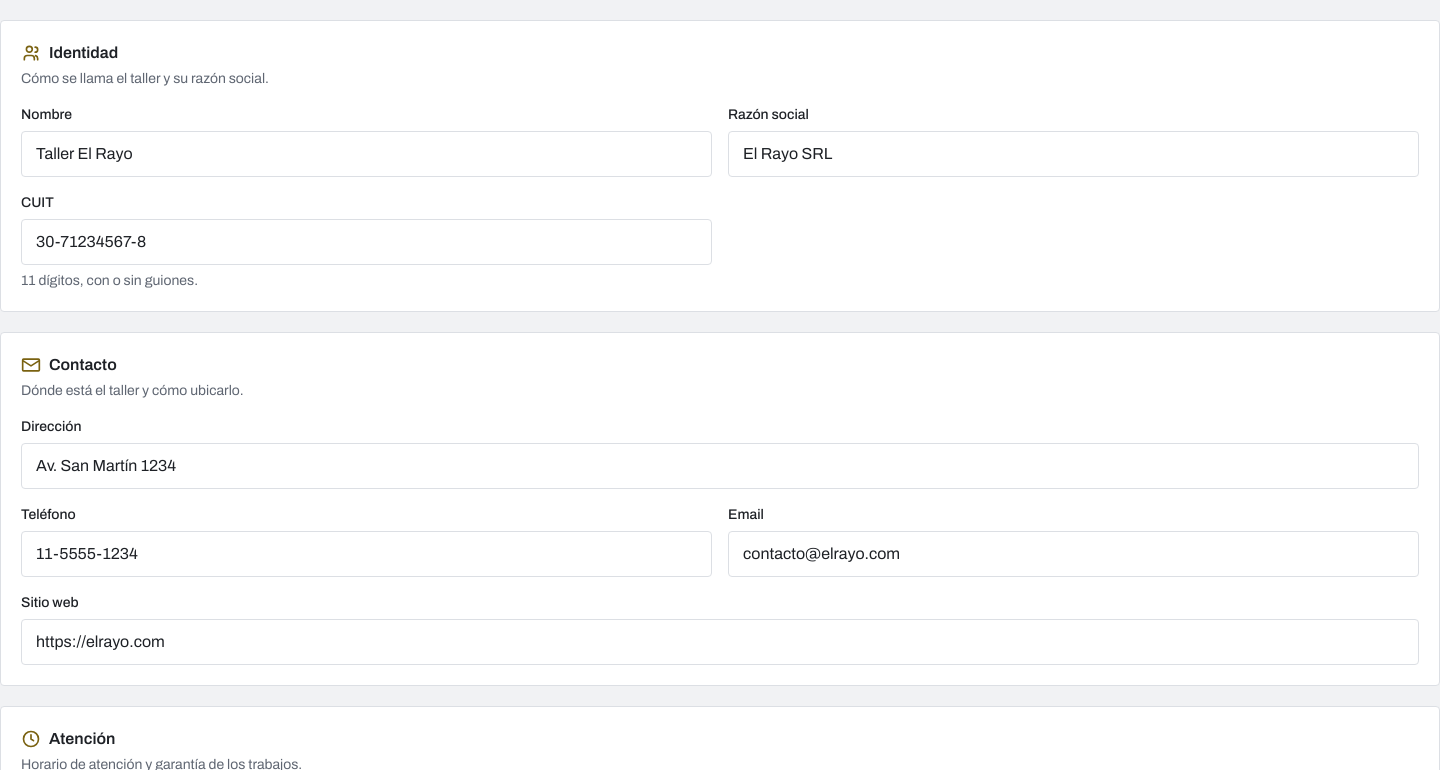
Test: ConfigTaller › muestra el error del servidor sin perder lo cargado
Replace the text in the field labelled "Nombre" with "Taller Norte" at [366, 154], box [21,131,712,177]
(page scrolled)
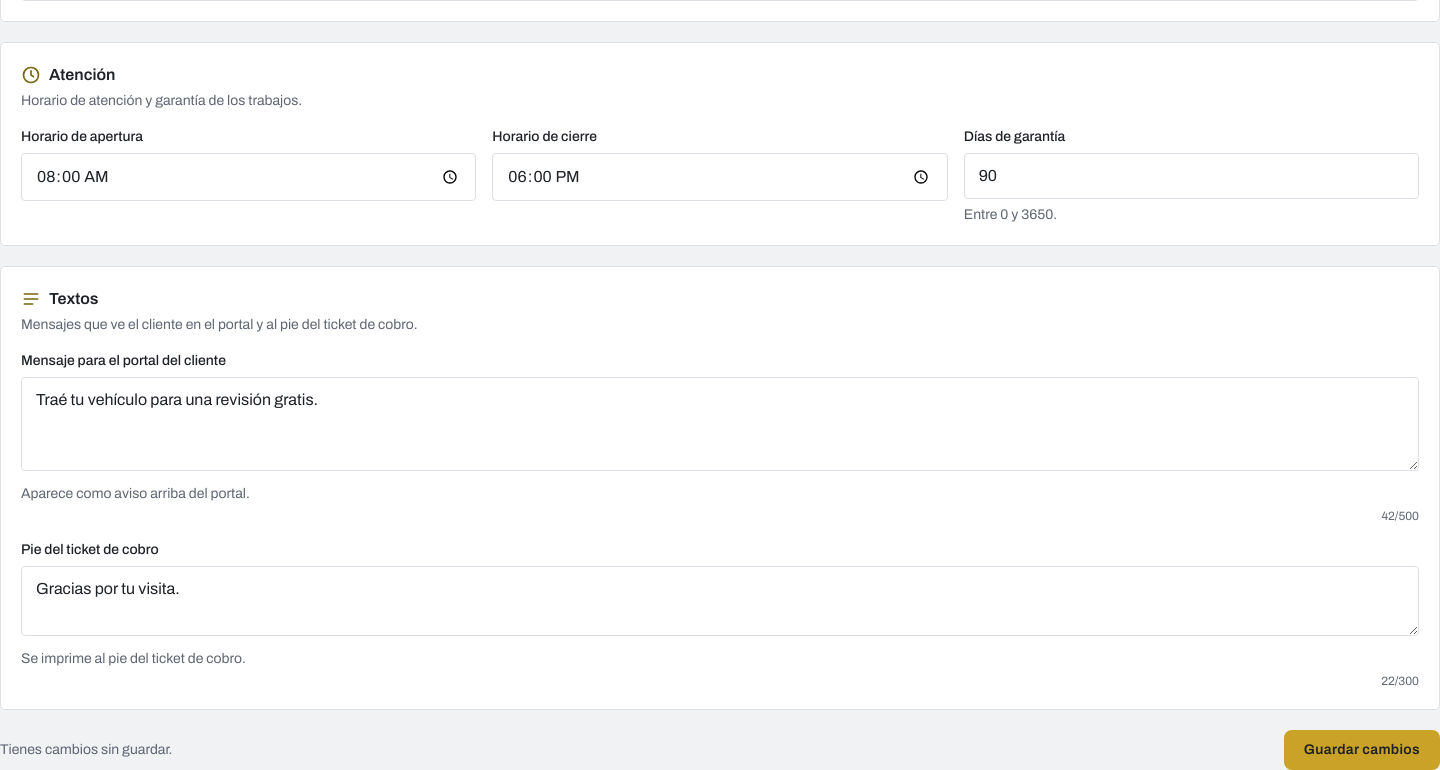
Click the button "Guardar cambios" at [1362, 750], box [1284,730,1439,769]
(page scrolled)
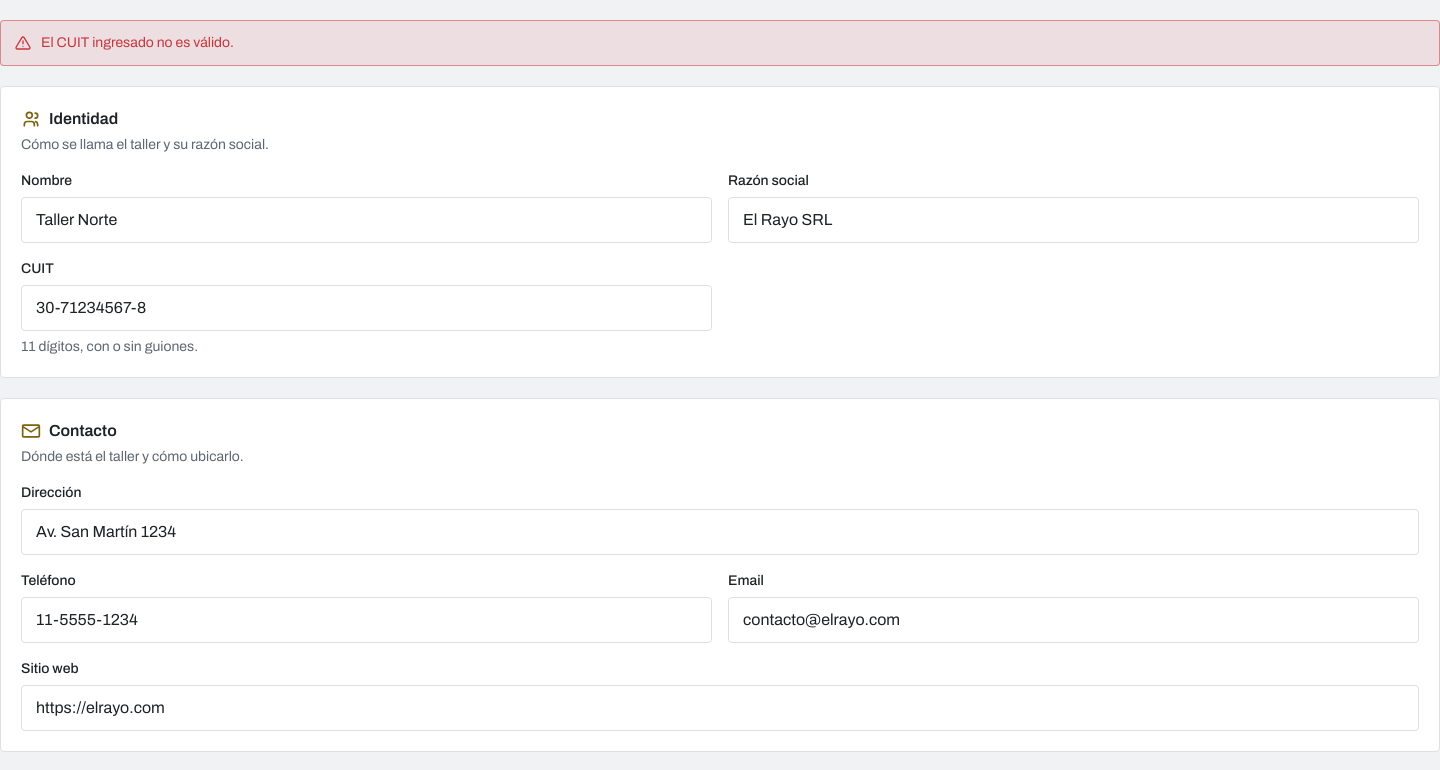
Result: the text "El CUIT ingresado no es válido." is shown at [41,35,234,50]
